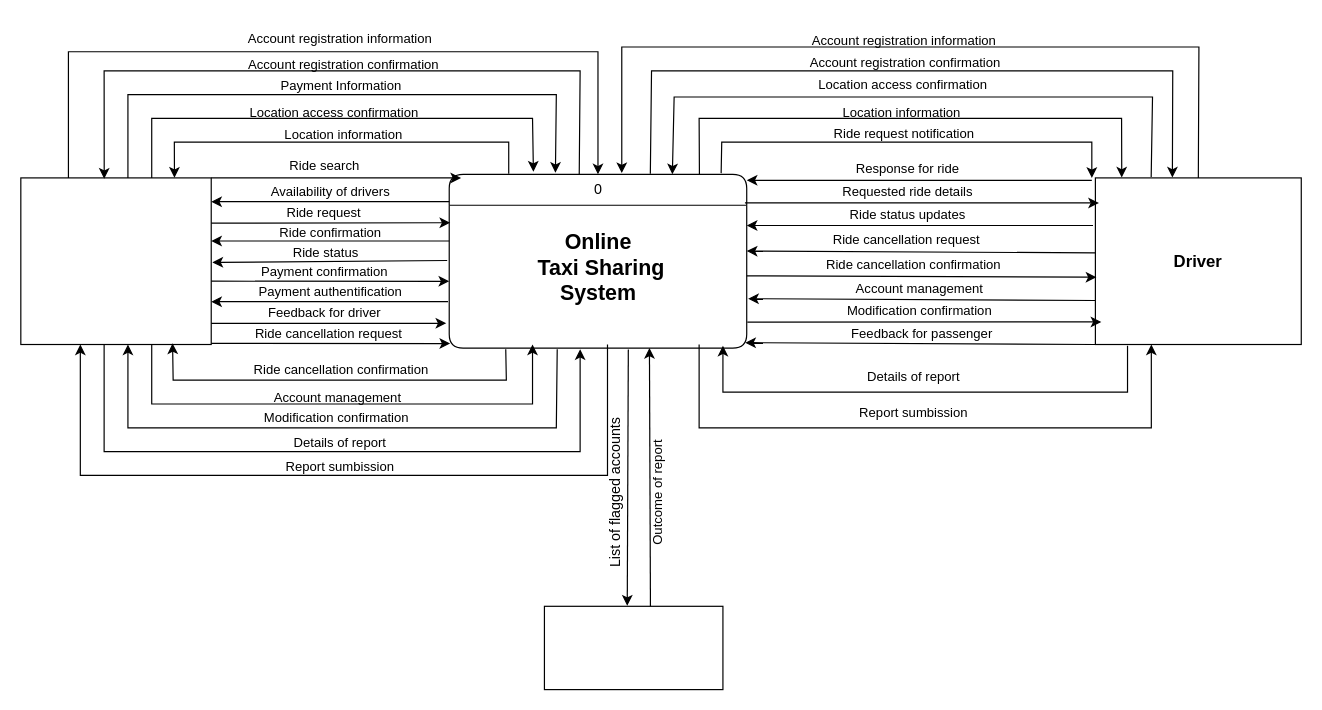
The diagram is 1322 pixels wide and 710 high, and some of its shapes have lost their labels. The shapes that lost their labels are listed below. From the top down, each one's centre as x and y in pixels, then its label:
At (x=115, y=261): "Passenger".
At (x=633, y=647): "Administrator".
